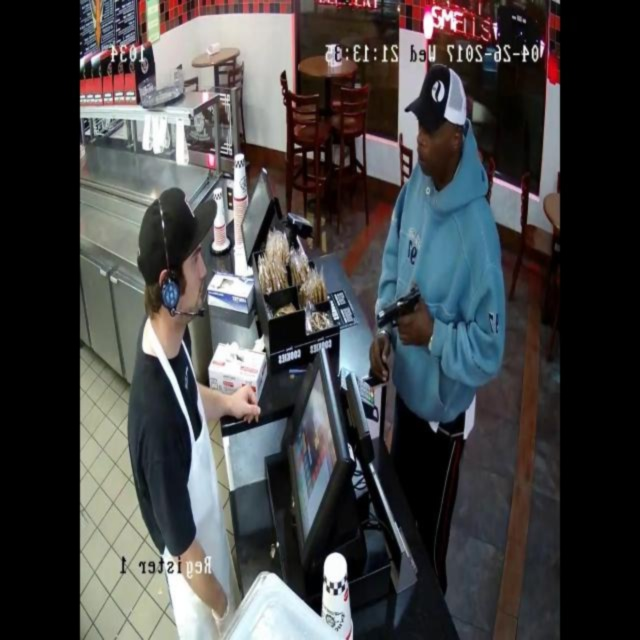gun: (363, 275, 436, 340)
